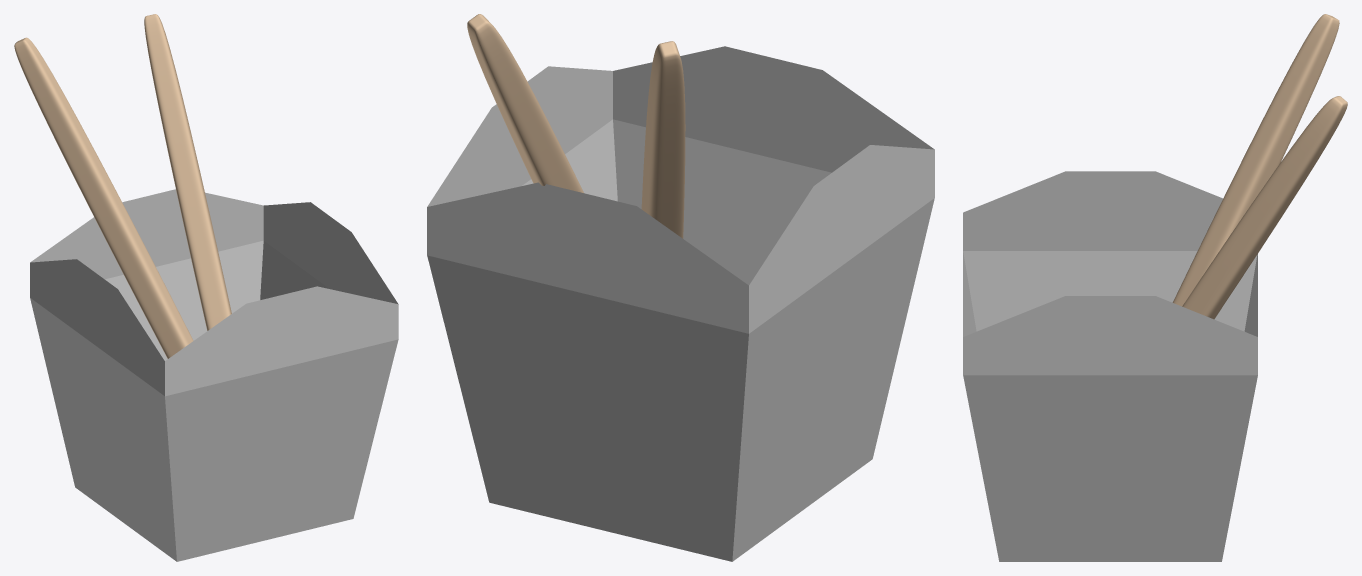
File: TakeOutBox.fbx
The picture shows the model from 3 angles, left to right: view 1: azimuth 30°, elevation 25°; view 2: azimuth 150°, elevation 25°; view 3: azimuth 270°, elevation 25°; orthographic projection. The views are drawn at different scales.
Parts seen in each view (by area): view 1: Cube, Cube.001, Cube.002; view 2: Cube, Cube.002, Cube.001; view 3: Cube, Cube.001, Cube.002.
Boxes of the visible parts, x1,y1,x2,y2 form: Cube: [30, 189, 398, 561]; Cube.001: [14, 37, 193, 358]; Cube.002: [144, 14, 231, 330]; Cube: [427, 46, 934, 561]; Cube.002: [467, 14, 583, 192]; Cube.001: [641, 41, 685, 238]; Cube: [963, 171, 1257, 561]; Cube.001: [1172, 14, 1339, 306]; Cube.002: [1182, 96, 1347, 319].
Bounding box in the file's own units: 265 × 451 × 346.
